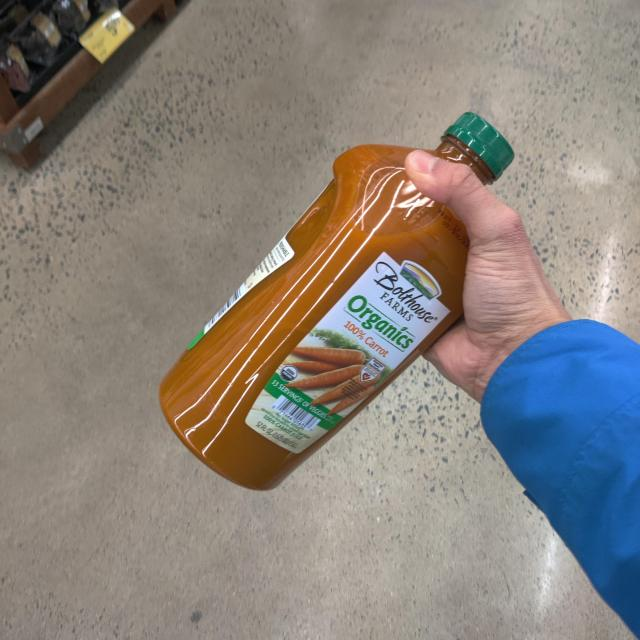Juice: (163, 111, 514, 488)
